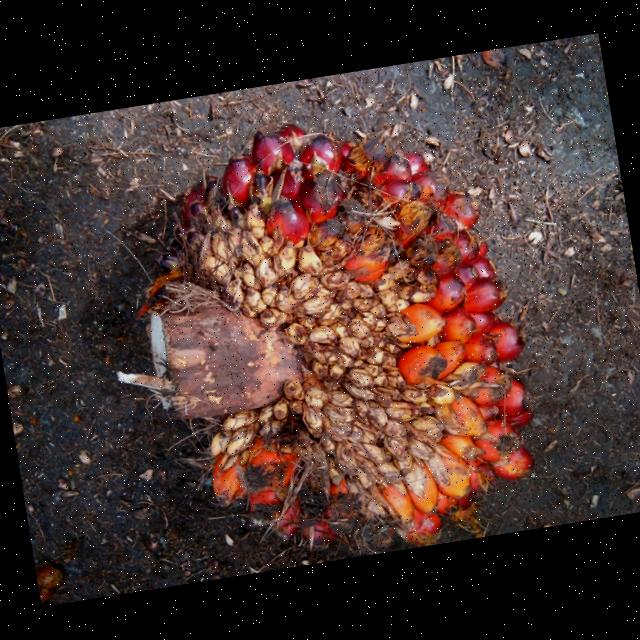Ripe: (165, 125, 548, 551)
